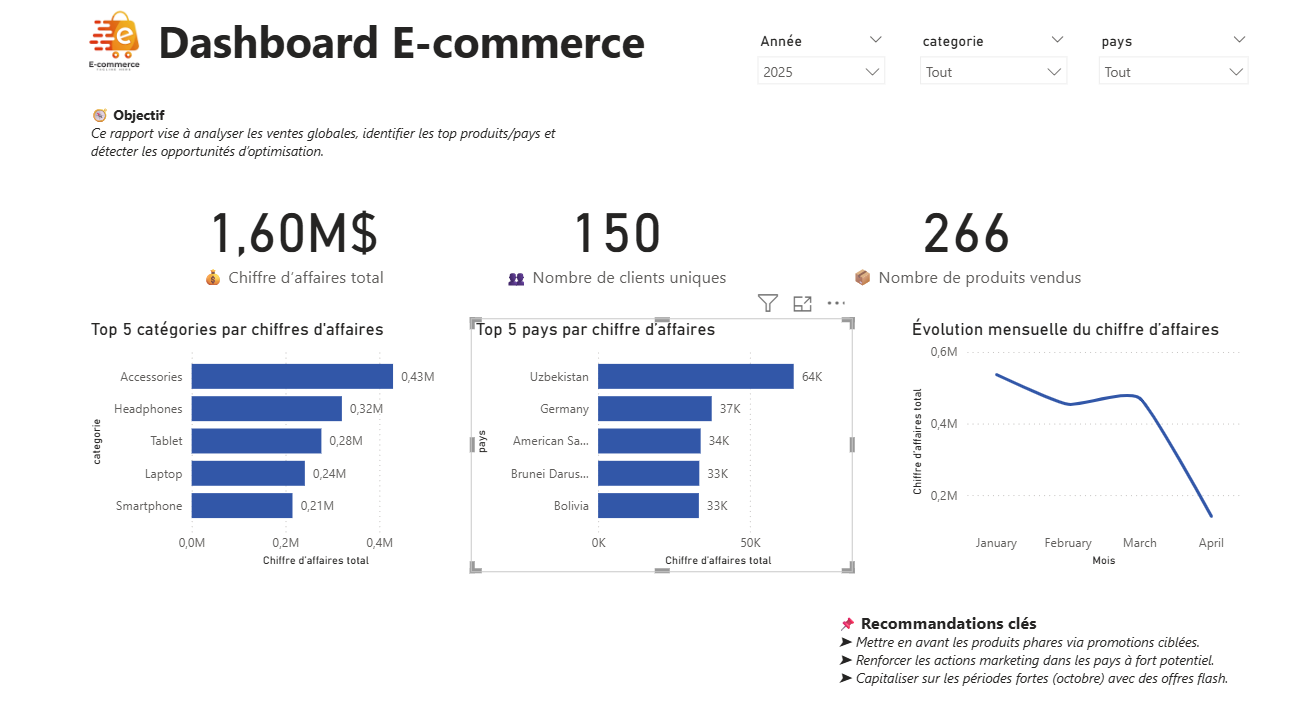

The dashboard page shown, as its layout file describes it:
{"tool":"powerbi","page":{"name":"Page 1","canvas":[1280,720],"ordinal":0},"visuals":[{"type":"card","fields":{"Values":["Clients.CA_Total"]},"box":[188,171,212,137],"z":0},{"type":"card","fields":{"Values":["Clients.Nb_Clients_Uniques"]},"box":[492,171,238,137],"z":1000},{"type":"barChart","title":"Top 5 catégories par  chiffres d''affaires","fields":{"Y":["Clients.Chiffre d’affaires total"],"Category":["Produits.categorie"]},"box":[92,319,366,248],"z":2000},{"type":"clusteredBarChart","title":"Top 5 pays par chiffre d’affaires","fields":{"Category":["Clients.pays"],"Y":["Clients.Chiffre d’affaires total"]},"box":[468,319,375,248],"z":3000},{"type":"lineChart","title":"Évolution mensuelle du chiffre d’affaires","fields":{"Y":["Clients.CA_Total"],"Category":["Commandes.MoisNom"]},"box":[895,319,331,248],"z":4000},{"type":"slicer","fields":{"Values":["Produits.categorie"]},"box":[897,34,164,62],"z":5000},{"type":"slicer","fields":{"Values":["Clients.pays"]},"box":[1073,34,167,62],"z":6000},{"type":"slicer","fields":{"Values":["Commandes.DateCommande","Commandes.DateMois"]},"box":[739,34,145,62],"z":7000},{"type":"textbox","box":[156,13,548,69],"z":8000},{"type":"image","box":[0,0,239,96],"z":9000},{"type":"card","title":"📦 Nombre de produits vendus","fields":{"Values":["CountNonNull(Commandes.commande_id)"]},"box":[834,171,239,137],"z":10000},{"type":"textbox","box":[823,600,403,84],"z":11000},{"type":"textbox","box":[92,106,484,65],"z":12000}]}

Visuals, with their boxes in screenshot pixels (x1, y1, x2, y2), scaled from the page's 1280x720 canvas onto the 1295x716 screenshot:
card - Clients.CA_Total: [x1=190, y1=170, x2=405, y2=306]
card - Clients.Nb_Clients_Uniques: [x1=498, y1=170, x2=739, y2=306]
"Top 5 catégories par  chiffres d''affaires" barChart: [x1=93, y1=317, x2=463, y2=564]
"Top 5 pays par chiffre d’affaires" clusteredBarChart: [x1=473, y1=317, x2=853, y2=564]
"Évolution mensuelle du chiffre d’affaires" lineChart: [x1=905, y1=317, x2=1240, y2=564]
slicer - Produits.categorie: [x1=908, y1=34, x2=1073, y2=95]
slicer - Clients.pays: [x1=1086, y1=34, x2=1255, y2=95]
slicer - Commandes.DateCommande x Commandes.DateMois: [x1=748, y1=34, x2=894, y2=95]
textbox: [x1=158, y1=13, x2=712, y2=82]
image: [x1=0, y1=0, x2=242, y2=95]
"📦 Nombre de produits vendus" card: [x1=844, y1=170, x2=1086, y2=306]
textbox: [x1=833, y1=597, x2=1240, y2=680]
textbox: [x1=93, y1=105, x2=583, y2=170]
